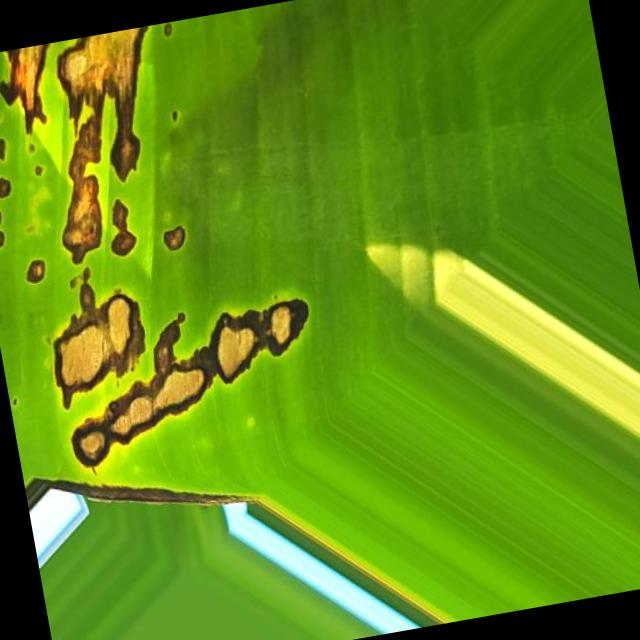Banana_Black_Sigatoka: (0, 5, 339, 504)
